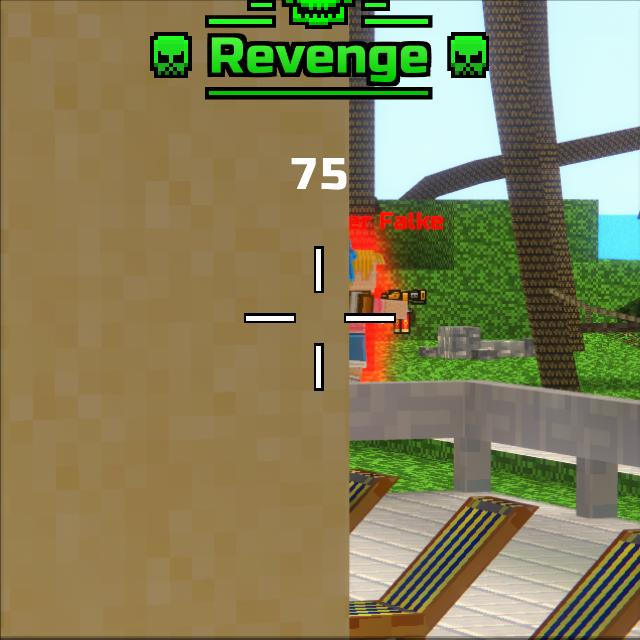Enemy: (348, 249, 402, 380)
